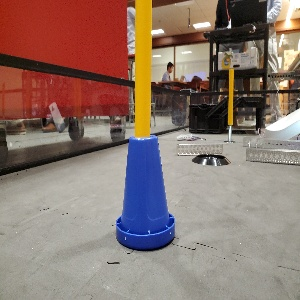Blue_1: (114, 131, 175, 252)
